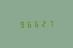nine: (18, 20, 24, 28)
seven: (46, 19, 52, 27)
six: (25, 20, 31, 28), (32, 20, 38, 27)
two: (39, 19, 45, 27)
